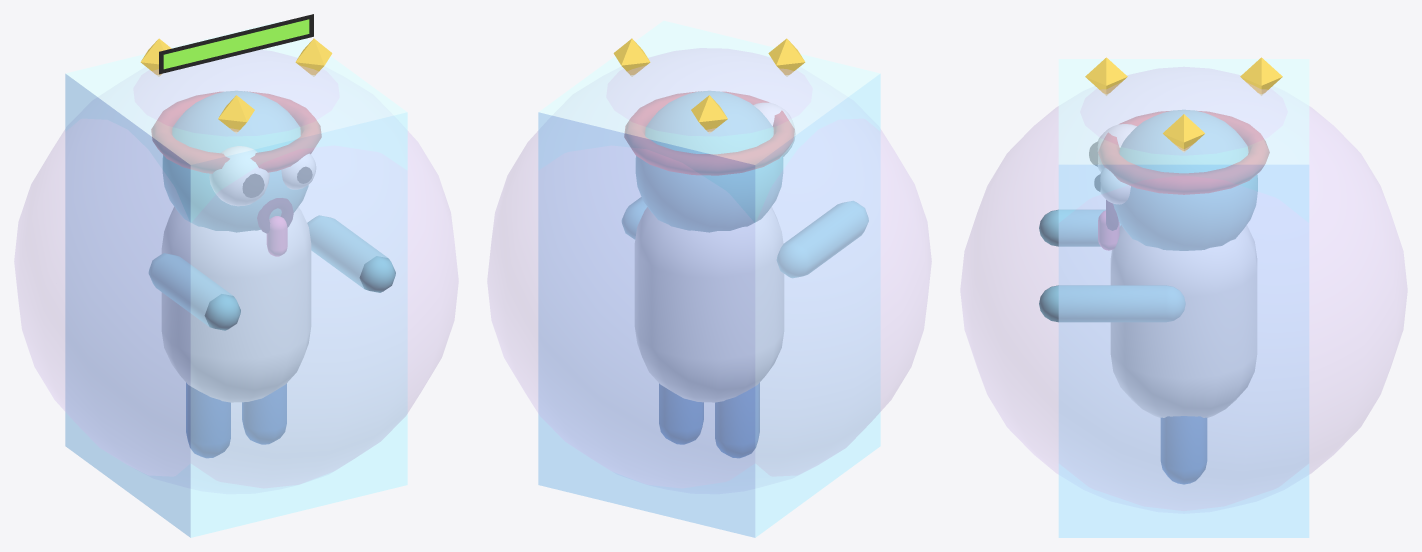
Rendered from speedySid.glb.
3 renders of one model, left to right at view 1: azimuth 30°, elevation 25°; view 2: azimuth 150°, elevation 25°; view 3: azimuth 270°, elevation 25°, orthographic.
Parts seen in each view (by area): view 1: bubble, ice, torso, head, body, armL, armR, legL, healthFill, stars, eyeL, legR (+3 smaller); view 2: bubble, ice, torso, head, body, armL, legL, stars, legR, armR; view 3: bubble, ice, torso, head, body, armR, legR, stars, armL, eyeR, tongue.
Boxes of the visible parts, x1=… form: bubble: x1=14, y1=50, x2=458, y2=493; ice: x1=65, y1=21, x2=407, y2=537; torso: x1=162, y1=207, x2=310, y2=402; head: x1=163, y1=91, x2=308, y2=232; body: x1=151, y1=92, x2=321, y2=233; armL: x1=149, y1=253, x2=240, y2=330; armR: x1=307, y1=215, x2=395, y2=292; legL: x1=186, y1=383, x2=230, y2=457; healthFill: x1=163, y1=19, x2=309, y2=69; stars: x1=140, y1=38, x2=332, y2=133; eyeL: x1=209, y1=146, x2=269, y2=205; legR: x1=242, y1=384, x2=286, y2=444; bubble: x1=487, y1=48, x2=931, y2=493; ice: x1=538, y1=21, x2=880, y2=537; torso: x1=635, y1=207, x2=783, y2=402; head: x1=636, y1=91, x2=782, y2=232; body: x1=624, y1=92, x2=794, y2=175; armL: x1=777, y1=201, x2=868, y2=277; legL: x1=715, y1=383, x2=759, y2=457; stars: x1=613, y1=38, x2=805, y2=133; legR: x1=659, y1=384, x2=703, y2=444; armR: x1=622, y1=197, x2=646, y2=238; bubble: x1=960, y1=67, x2=1407, y2=513; ice: x1=1058, y1=59, x2=1309, y2=537; torso: x1=1111, y1=225, x2=1256, y2=417; head: x1=1113, y1=110, x2=1257, y2=250; body: x1=1098, y1=111, x2=1269, y2=230; armR: x1=1039, y1=285, x2=1185, y2=322; legR: x1=1161, y1=416, x2=1206, y2=484; stars: x1=1085, y1=57, x2=1282, y2=151; armL: x1=1039, y1=209, x2=1120, y2=246; eyeR: x1=1100, y1=168, x2=1130, y2=204; tongue: x1=1098, y1=210, x2=1119, y2=250.
Bounding box in the file's own units: 2.38 × 2.58 × 2.38.
